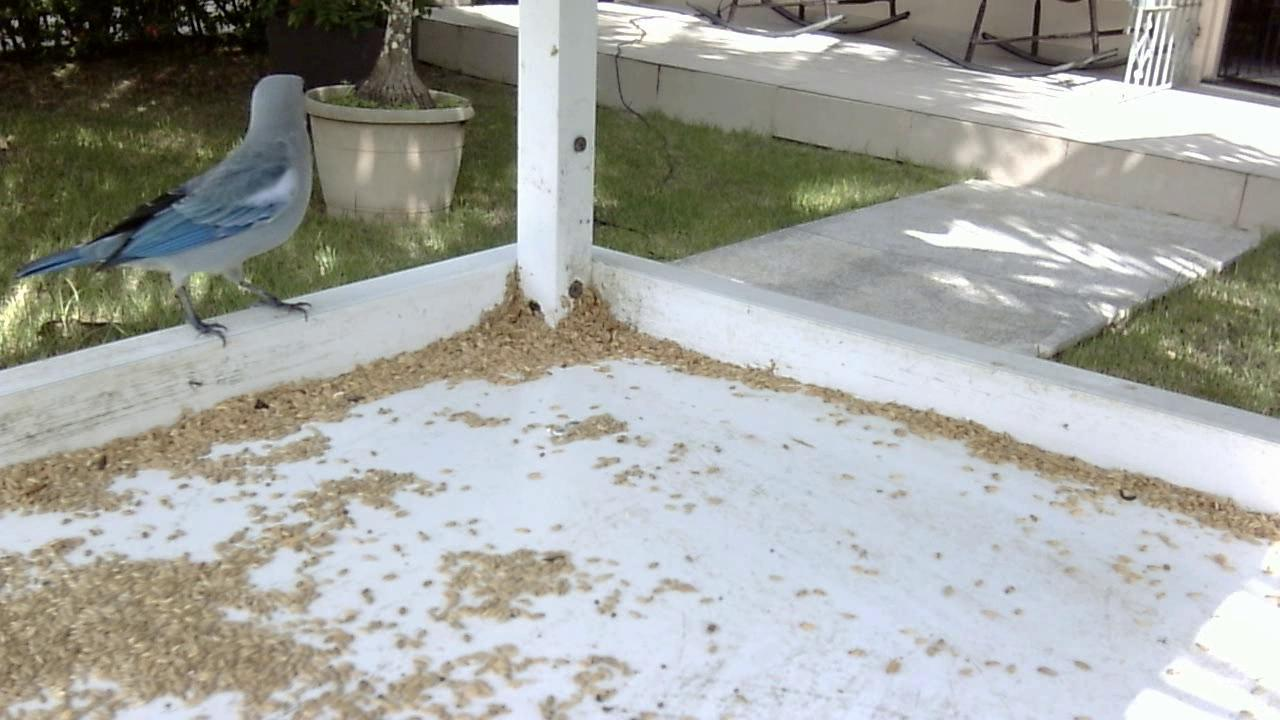sanhaco_da_amazonia: (12, 74, 324, 351)
